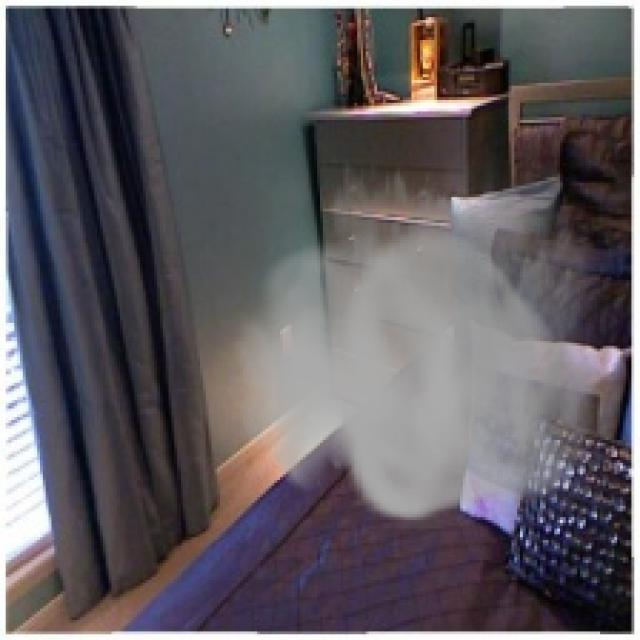Smoke: (234, 122, 623, 528)
